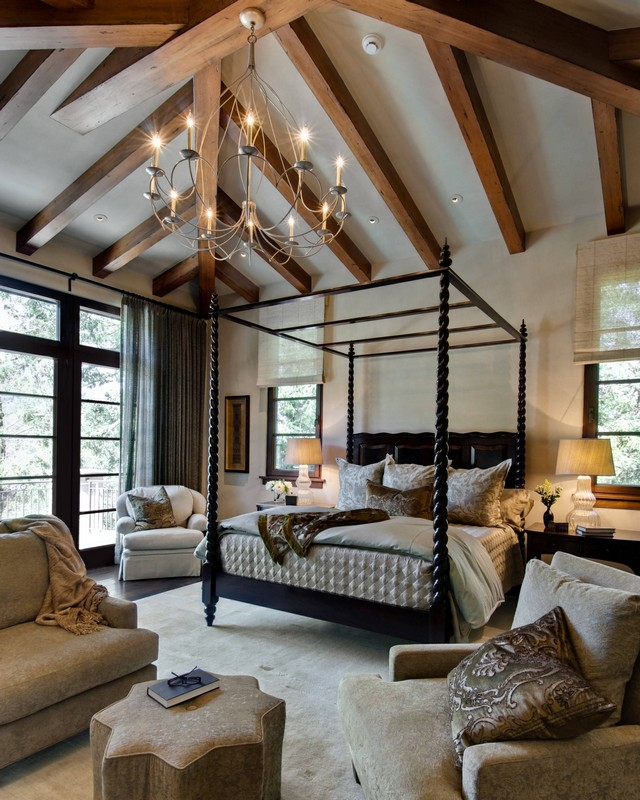bed: (205, 263, 525, 642)
lamp: (552, 431, 619, 529), (281, 431, 334, 492)
sofa: (334, 540, 637, 795), (3, 512, 161, 767), (107, 472, 209, 584)
stool: (88, 654, 289, 795)
table: (527, 529, 638, 583)
